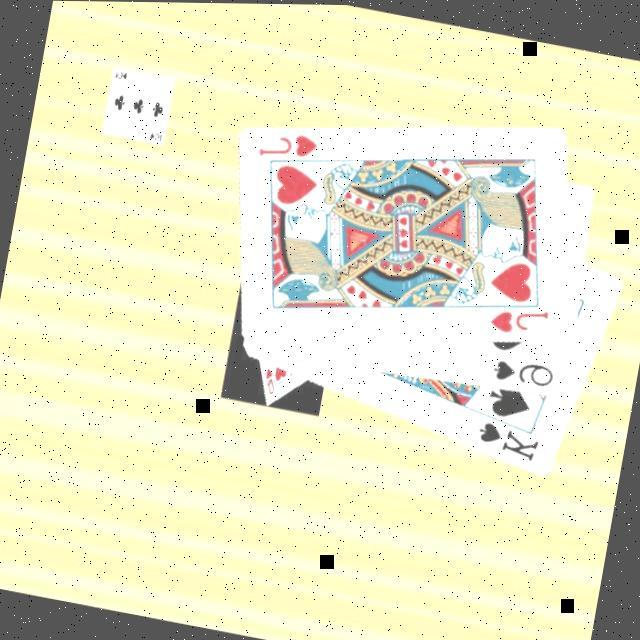9S: (487, 348, 558, 391)
JH: (253, 121, 320, 168), (484, 294, 550, 341)
KS: (468, 414, 542, 464)
